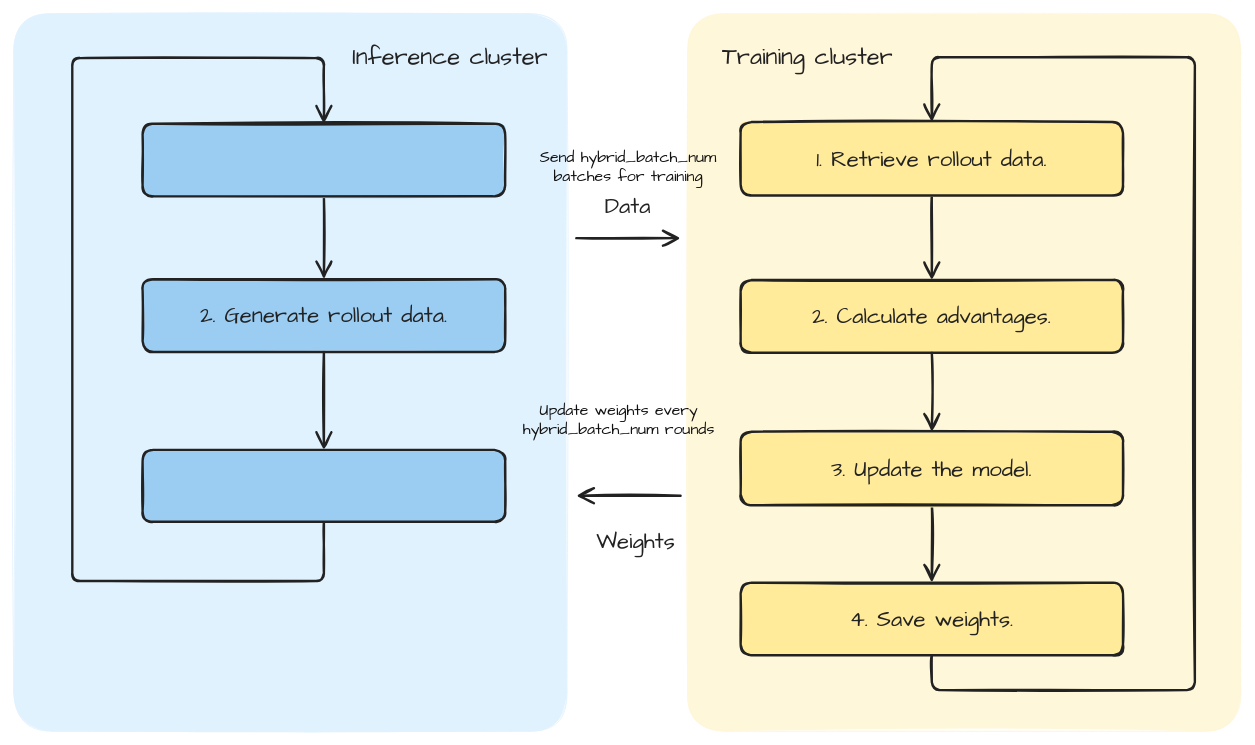
Some shapes in this 1255 by 745 pixel diagram are drawn without their labels. The shapes that lost their labels are listed below. From the top down, each one's box as (x1, y1, x2, y2) in pixels, then its label:
(141, 122, 506, 197): 1. Receive inference requests.
(141, 448, 506, 523): 3. Load new weights.
